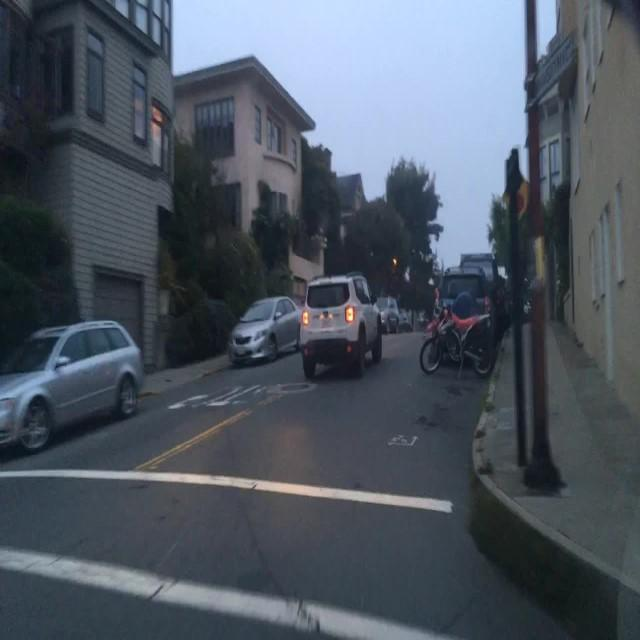normal: (0, 302, 157, 476), (285, 262, 389, 390), (417, 282, 504, 390), (220, 285, 306, 368)
